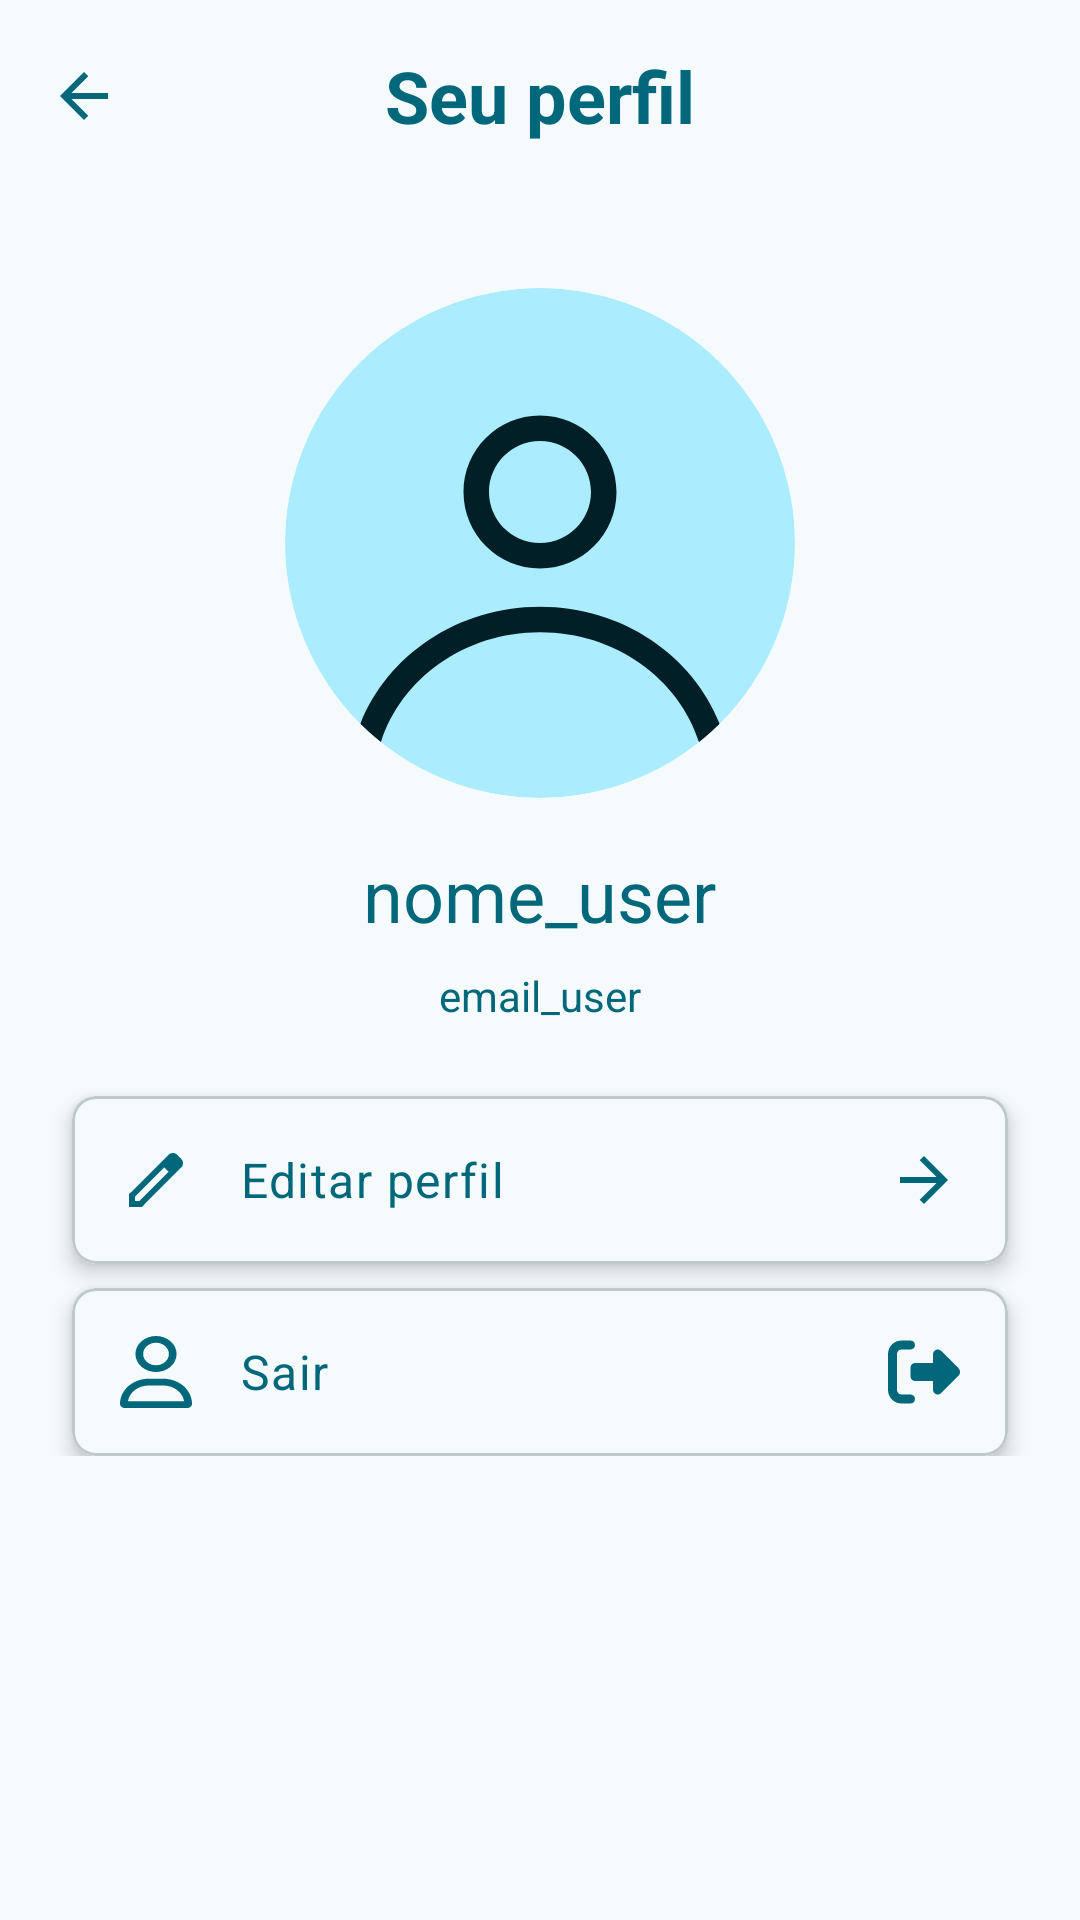

Screen size 1080 × 1920. Icon name, then its box in pixels as bbox=[x1, y1, x2, y2]:
arrow back: bbox=[60, 72, 108, 120]
arrow forward: bbox=[900, 1156, 948, 1204]
right from bracket: bbox=[888, 1340, 960, 1404]
user: bbox=[120, 1336, 192, 1408]
